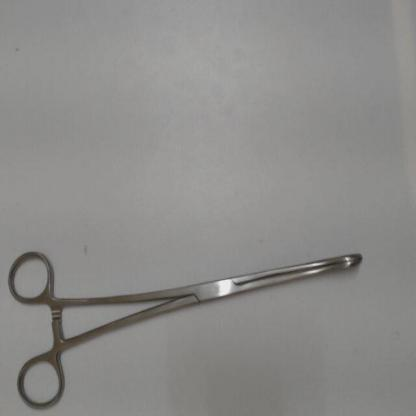Sponge Forceps: (4, 237, 374, 414)
